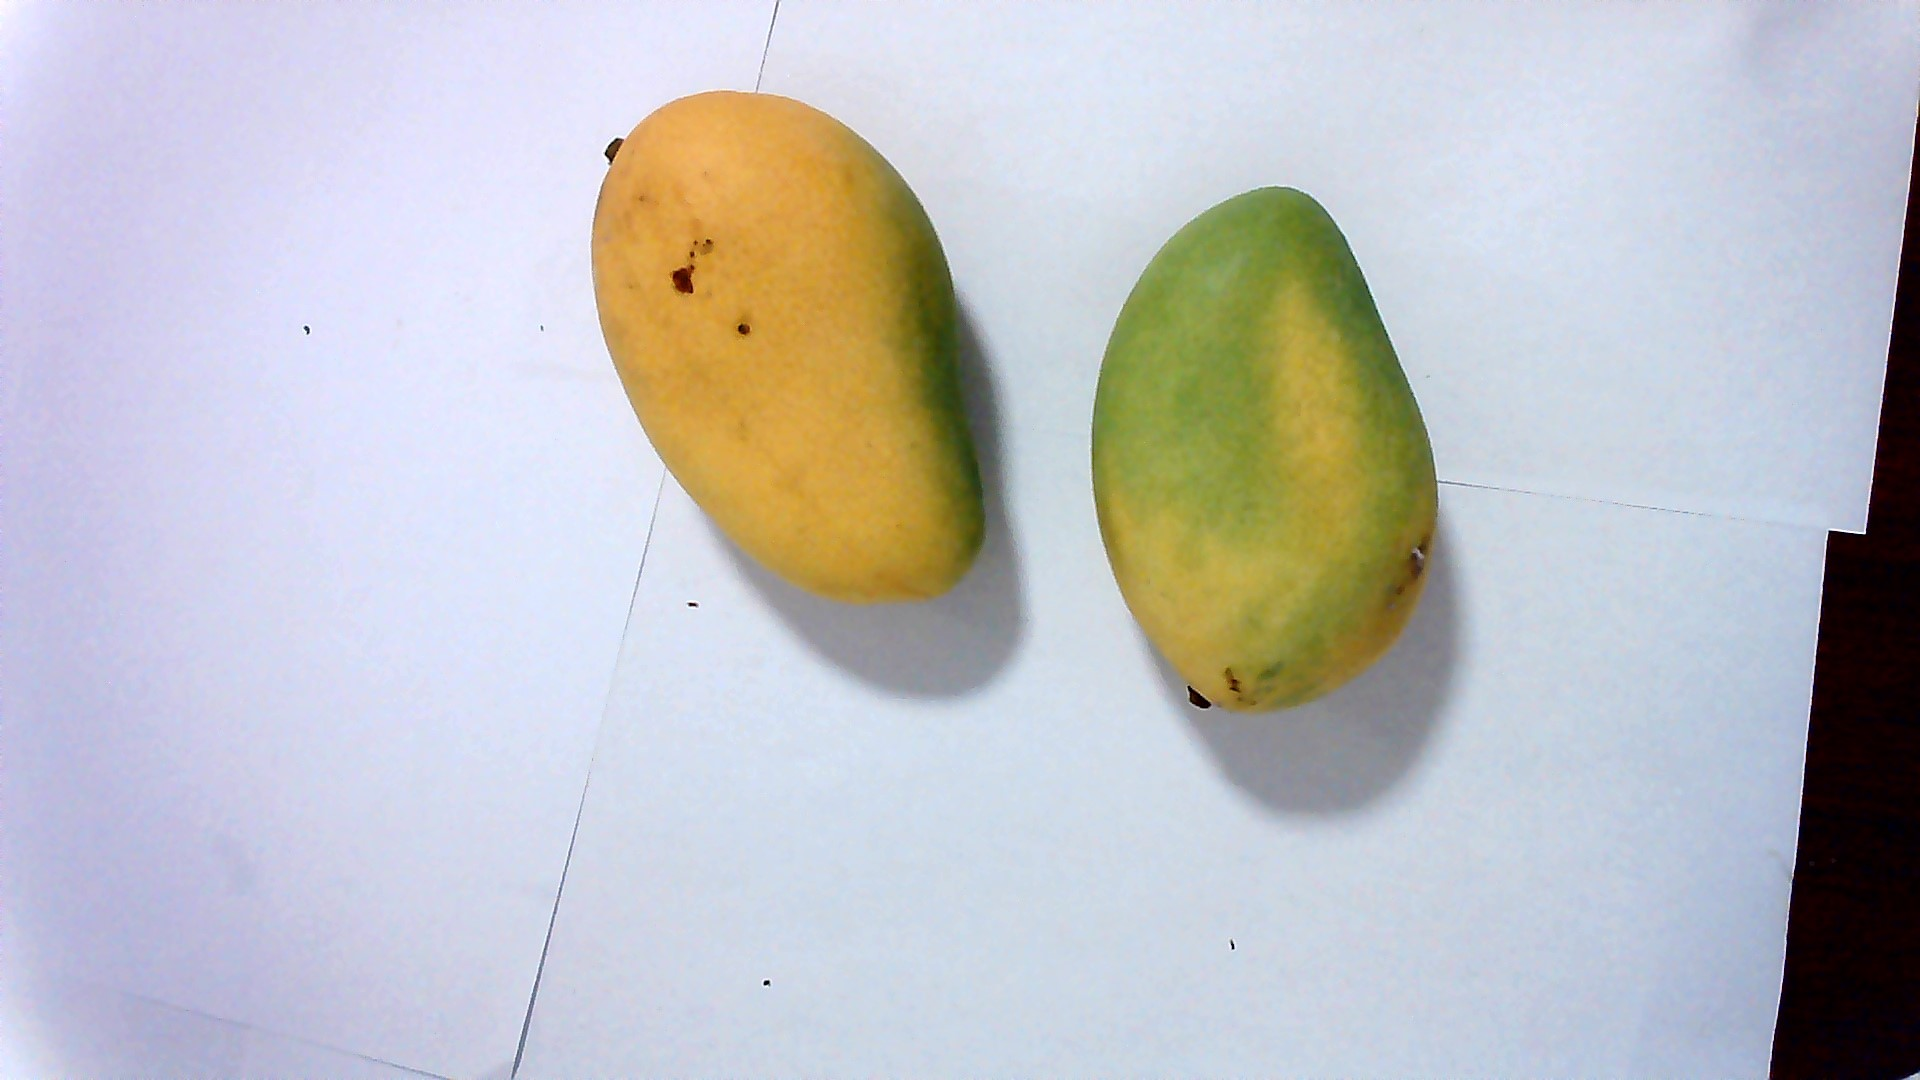mongo: (579, 92, 986, 596), (1091, 199, 1428, 700)
